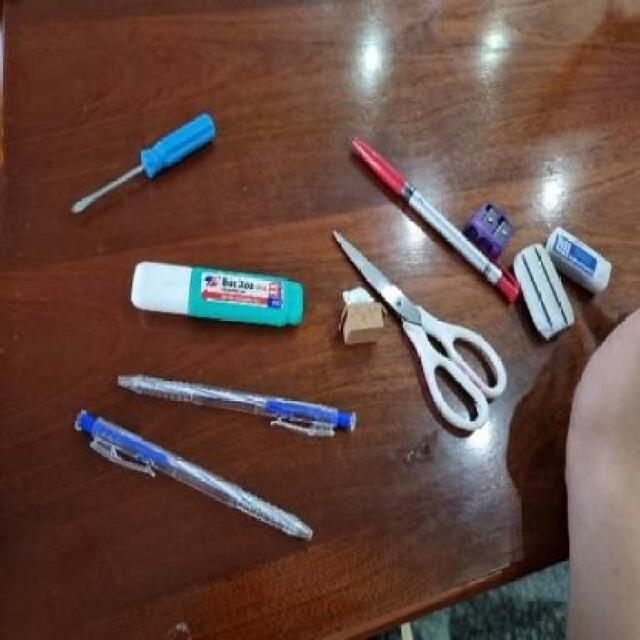not trash: (64, 402, 318, 550), (348, 134, 524, 312), (109, 369, 382, 443), (66, 104, 219, 225), (125, 253, 308, 332), (512, 245, 580, 346), (538, 214, 620, 291), (328, 284, 392, 348), (462, 197, 516, 258)
